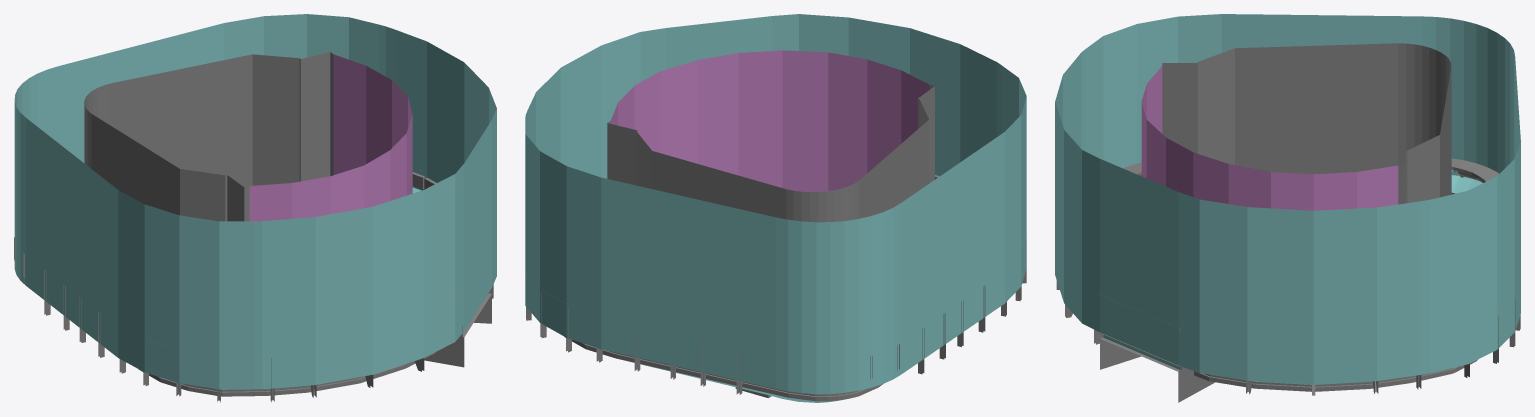
The model's file is bbl_Field_a.glb.
The picture shows the model from 3 angles, left to right: view 1: azimuth 30°, elevation 25°; view 2: azimuth 150°, elevation 25°; view 3: azimuth 270°, elevation 25°; orthographic projection. The views are drawn at different scales.
Parts seen in each view (by area): view 1: collision_0x000a, collision_0x000c, collision_0x000b, collision_0x0005; view 2: collision_0x000a, collision_0x000b, collision_0x000c, collision_0x0005; view 3: collision_0x000a, collision_0x000c, collision_0x000b, collision_0x0005, collision_0x0009.
Boxes of the visible parts, <box> form: collision_0x000a: <box>14,14,496,389</box>; collision_0x000c: <box>84,52,333,221</box>; collision_0x000b: <box>249,54,412,221</box>; collision_0x0005: <box>14,172,493,402</box>; collision_0x000a: <box>525,14,1026,393</box>; collision_0x000b: <box>610,50,929,191</box>; collision_0x000c: <box>607,85,934,222</box>; collision_0x0005: <box>526,175,1026,401</box>; collision_0x000a: <box>1055,14,1520,384</box>; collision_0x000c: <box>1162,43,1451,204</box>; collision_0x000b: <box>1141,66,1398,210</box>; collision_0x0005: <box>1056,158,1520,402</box>; collision_0x0009: <box>1102,170,1482,384</box>.
Size of the model in its own units: 1599 by 800 by 1599.
